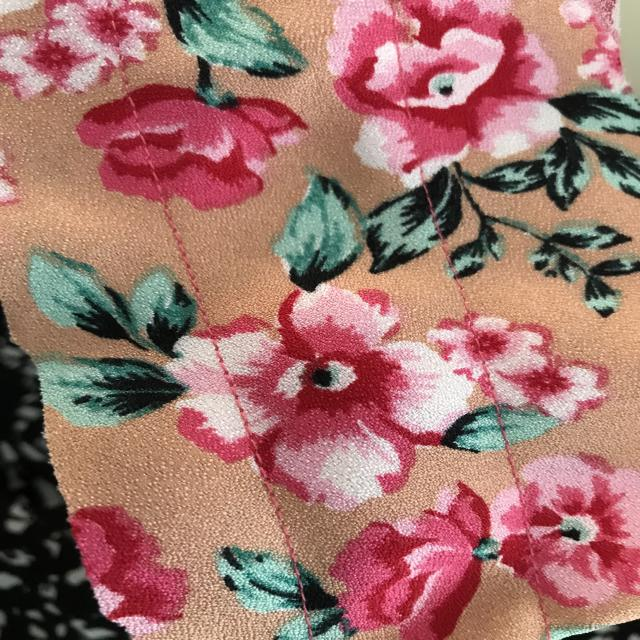good: (198, 338, 254, 414)
